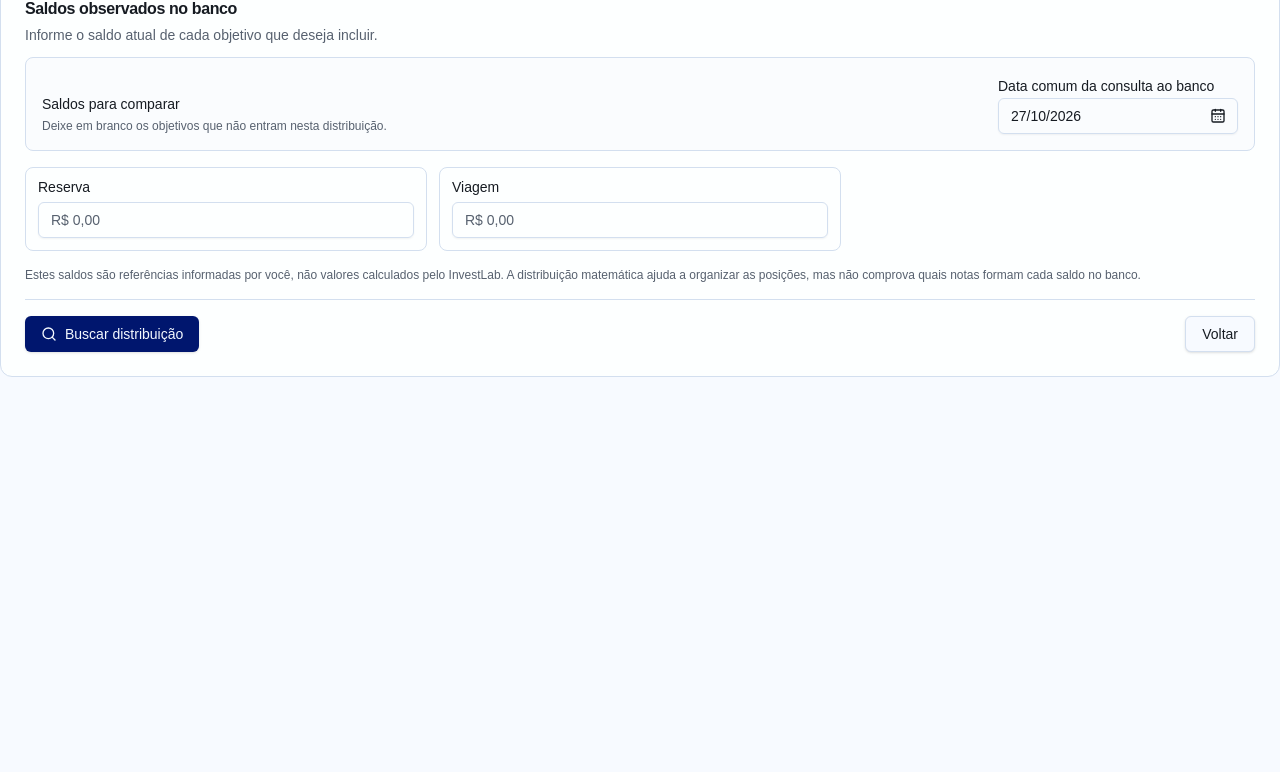
Test: PortfolioObjectiveOrganizer › explains preserved positions, current owners, known values and valuation limitations
Type "10000" into the field labelled "Reserva" at {"x": 226, "y": 220}, box 38,202 -> 414,238
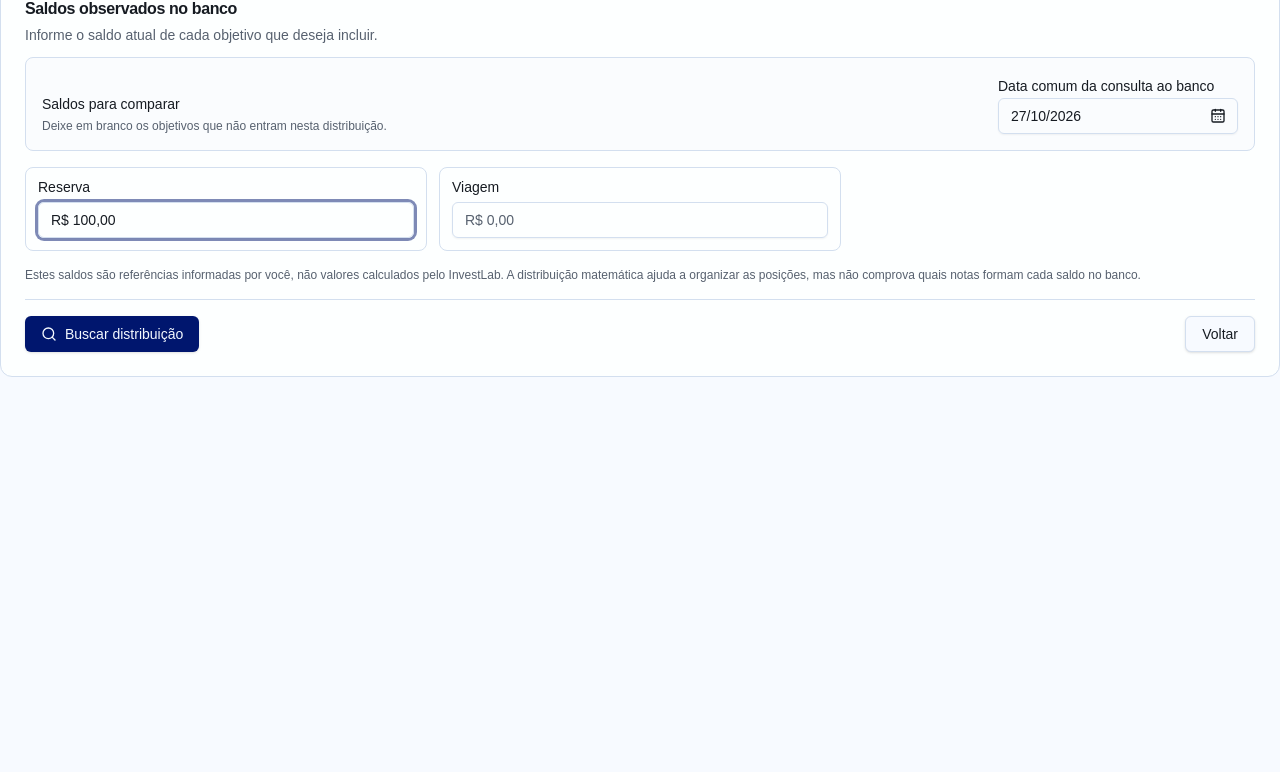
Click the button "Buscar distribuição" at {"x": 112, "y": 334}, box 25,316 -> 199,352
(page scrolled)
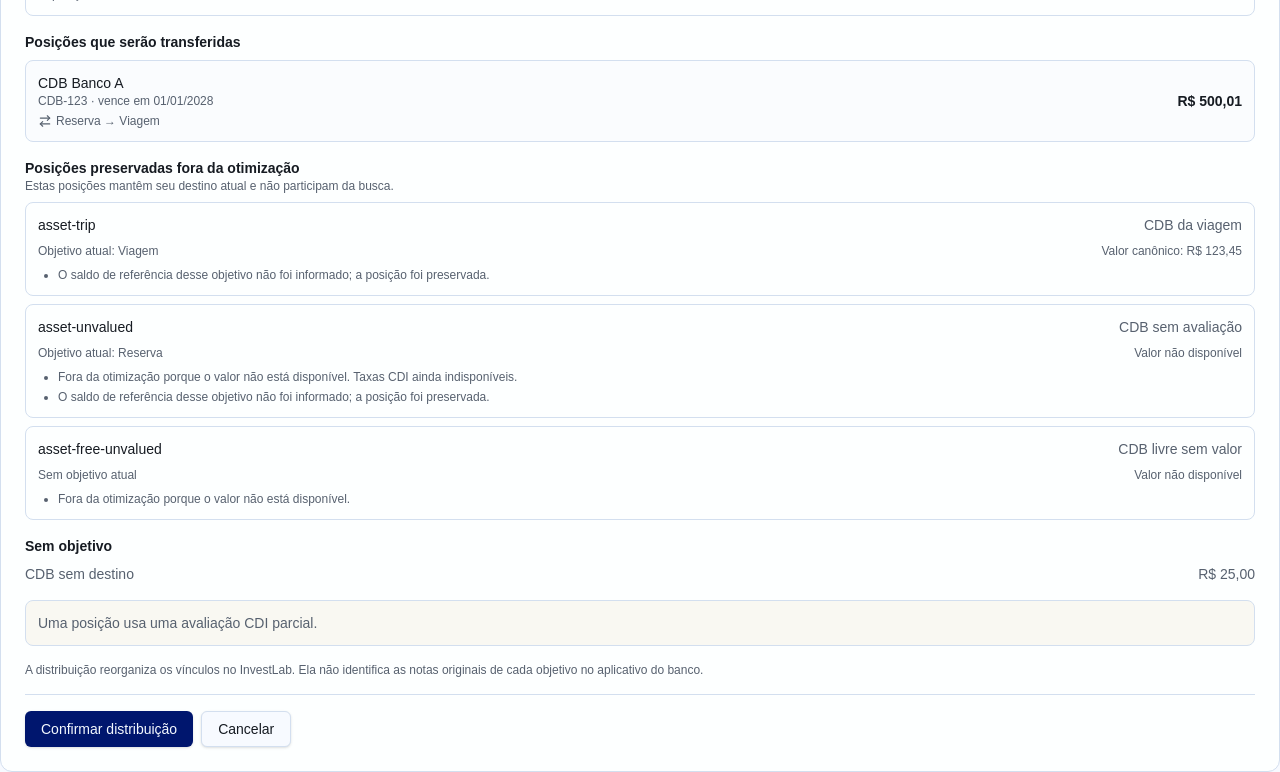
Result: the heading "Posições preservadas fora da otimização" is shown at 25,160 -> 300,176
Result: the text "asset-trip" is shown at 38,216 -> 96,232
Result: the text "CDB da viagem" is shown at 1144,214 -> 1242,234
